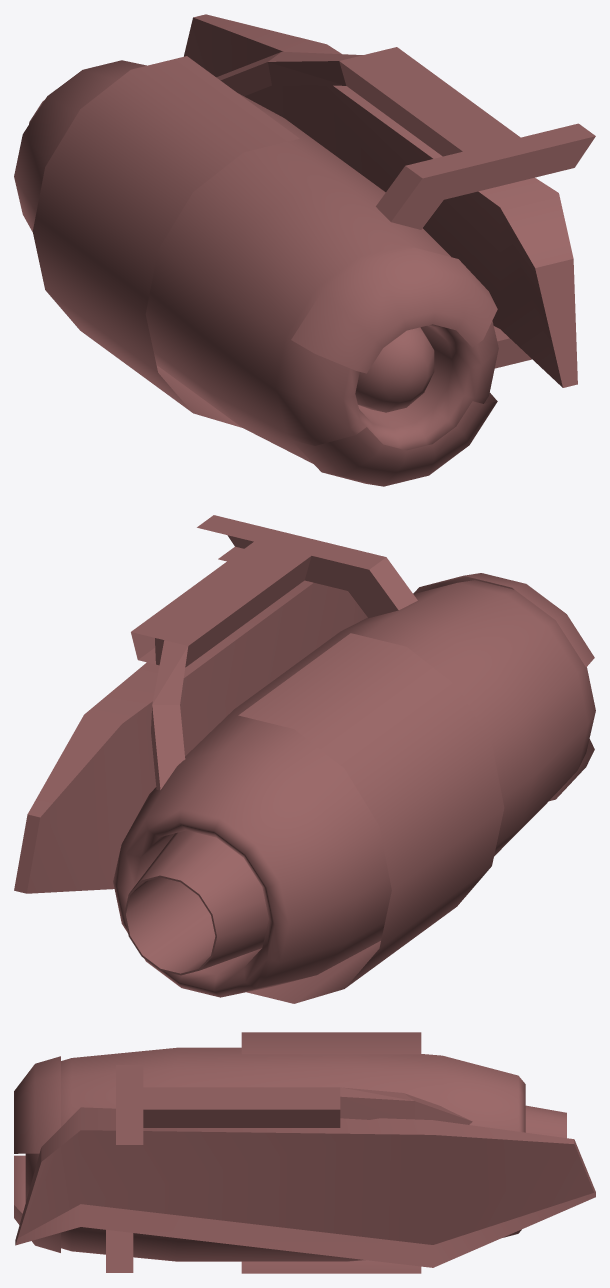
Rendered from hor engine r.FBX.
3 renders of one model, top to bottom at view 1: azimuth 30°, elevation 25°; view 2: azimuth 150°, elevation 25°; view 3: azimuth 270°, elevation 25°, orthographic. The views are drawn at different scales.
Parts seen in each view (by area): view 1: Object052; view 2: Object052; view 3: Object052.
Boxes of the visible parts, x1,y1,x2,y2 form: Object052: [14, 14, 595, 486]; Object052: [14, 515, 595, 1003]; Object052: [14, 1032, 595, 1273].
Bounding box in the file's own units: 1.01 × 0.7381 × 1.73.
